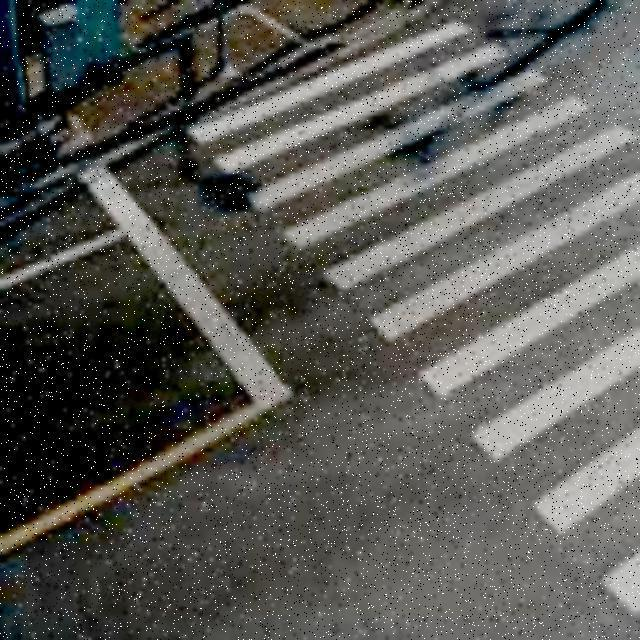Pedestrian crosswalk: (196, 10, 636, 573)
